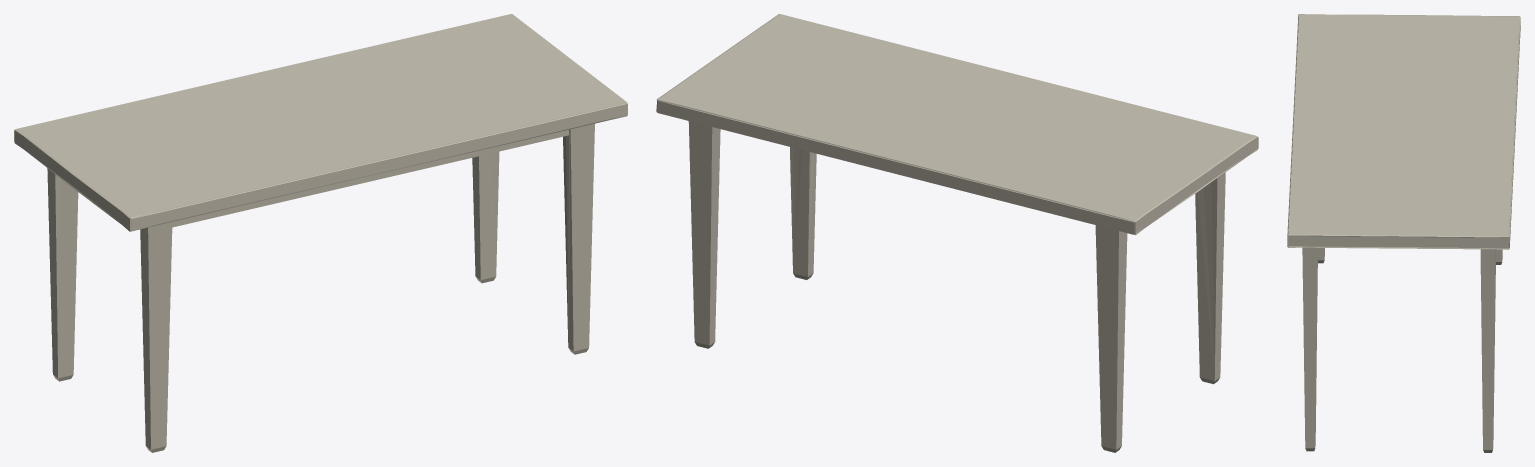
File: 2er_Tisch.glb
3 renders of one model, left to right at view 1: azimuth 30°, elevation 25°; view 2: azimuth 150°, elevation 25°; view 3: azimuth 270°, elevation 25°, orthographic. The views are drawn at different scales.
Parts seen in each view (by area): view 1: lehrertisch; view 2: lehrertisch; view 3: lehrertisch.
Boxes of the visible parts, left/top/right/bottom form: lehrertisch: left=14, top=14, right=627, bottom=452; lehrertisch: left=656, top=14, right=1258, bottom=452; lehrertisch: left=1287, top=14, right=1520, bottom=452.
Size of the model in its own units: 3.51 by 1.69 by 1.55.
